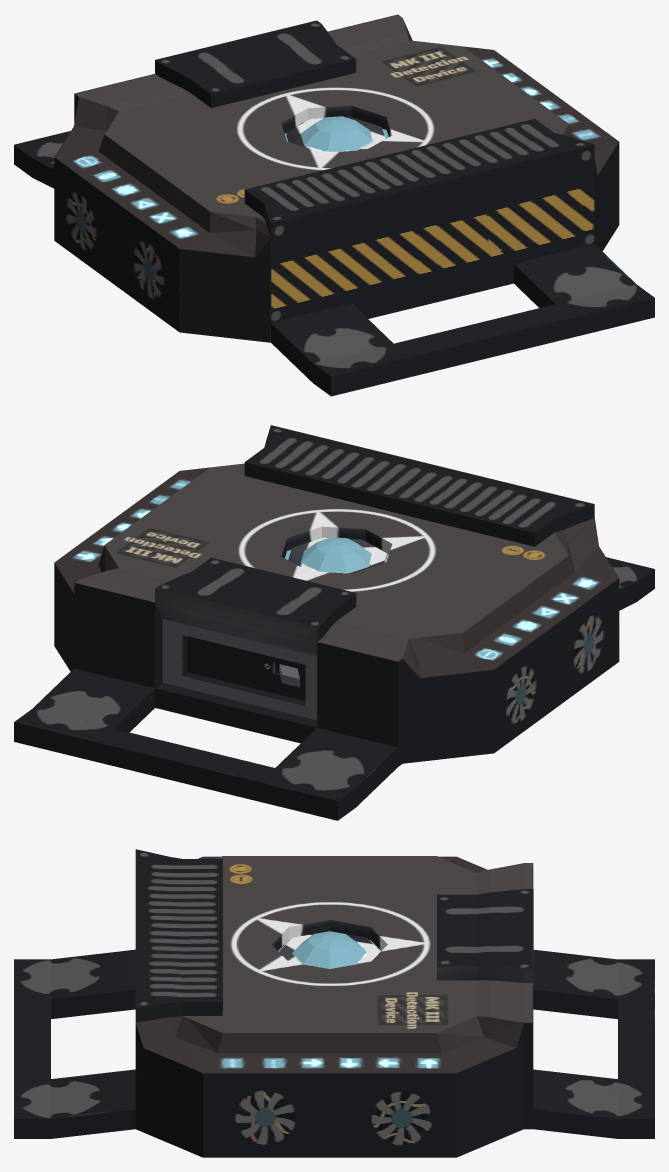
File: ElevatorMainBody.fbx
3 renders of one model, top to bottom at view 1: azimuth 30°, elevation 25°; view 2: azimuth 150°, elevation 25°; view 3: azimuth 270°, elevation 25°, orthographic.
Parts seen in each view (by area): view 1: motiondetector; view 2: motiondetector; view 3: motiondetector.
Part boxes in pixels (left/top/right/bottom): motiondetector: left=14, top=14, right=654, bottom=396; motiondetector: left=14, top=425, right=654, bottom=820; motiondetector: left=14, top=849, right=654, bottom=1157.
Bounding box in the file's own units: 76.12 × 21.3 × 95.09.
